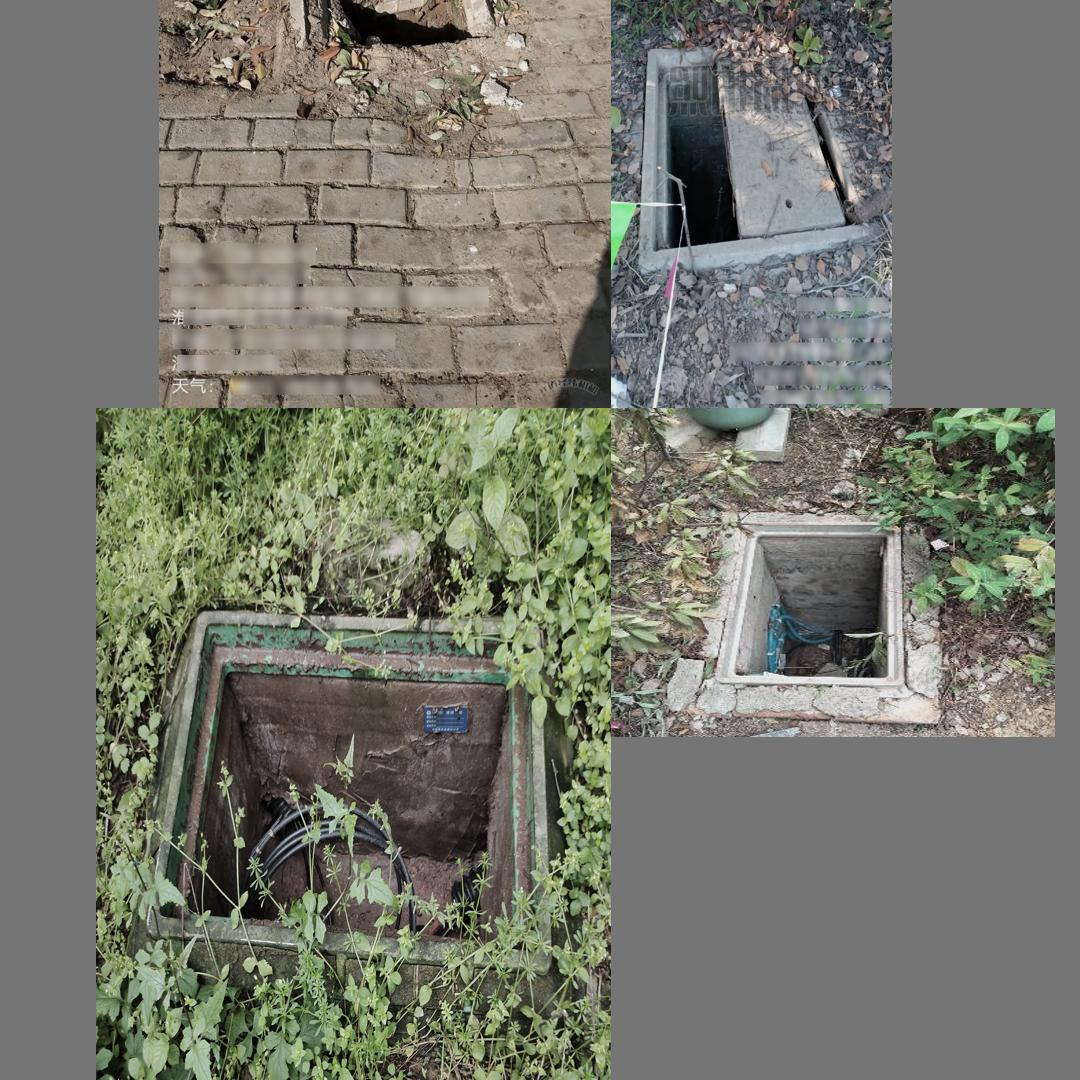lose: (146, 592, 557, 1005), (637, 34, 889, 272), (716, 521, 909, 685), (292, 0, 507, 53)
